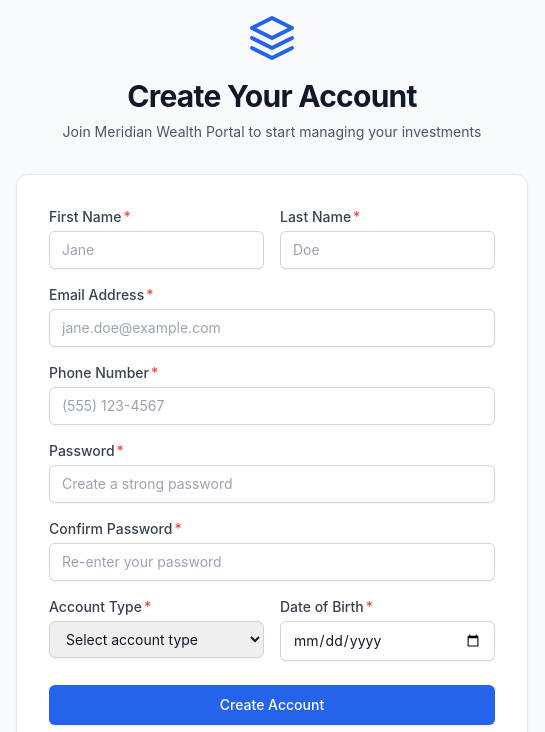
Test: SignupPage › required field validation on submit › shows error for empty first name on submit
What coordinates should you click on to do the following:
click the button "Create Account"
I would click on:
 (272, 705)
Its box is top-left (49, 685), bottom-right (495, 725).
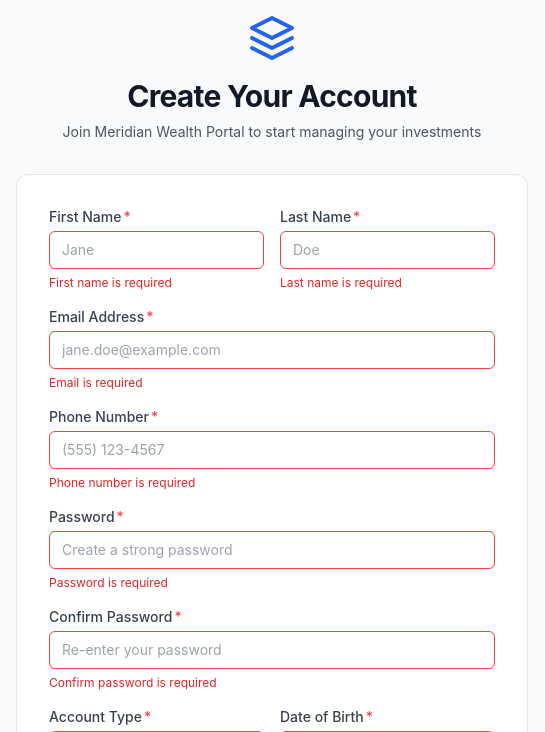
Result: the text "First name is required" is shown at top-left (49, 275), bottom-right (172, 290)
